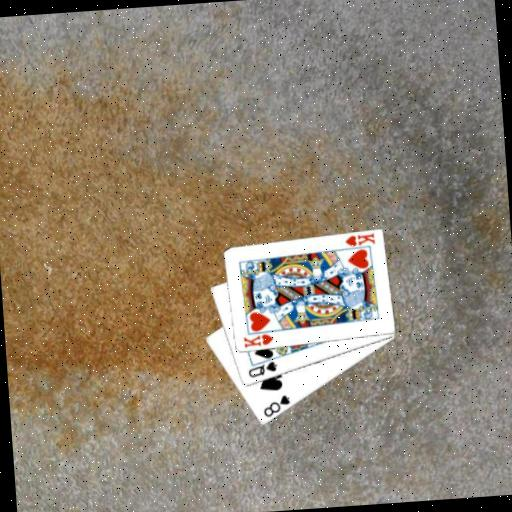8S: (259, 392, 292, 420)
KH: (240, 331, 275, 350), (341, 231, 377, 249)
QS: (245, 358, 280, 379)
